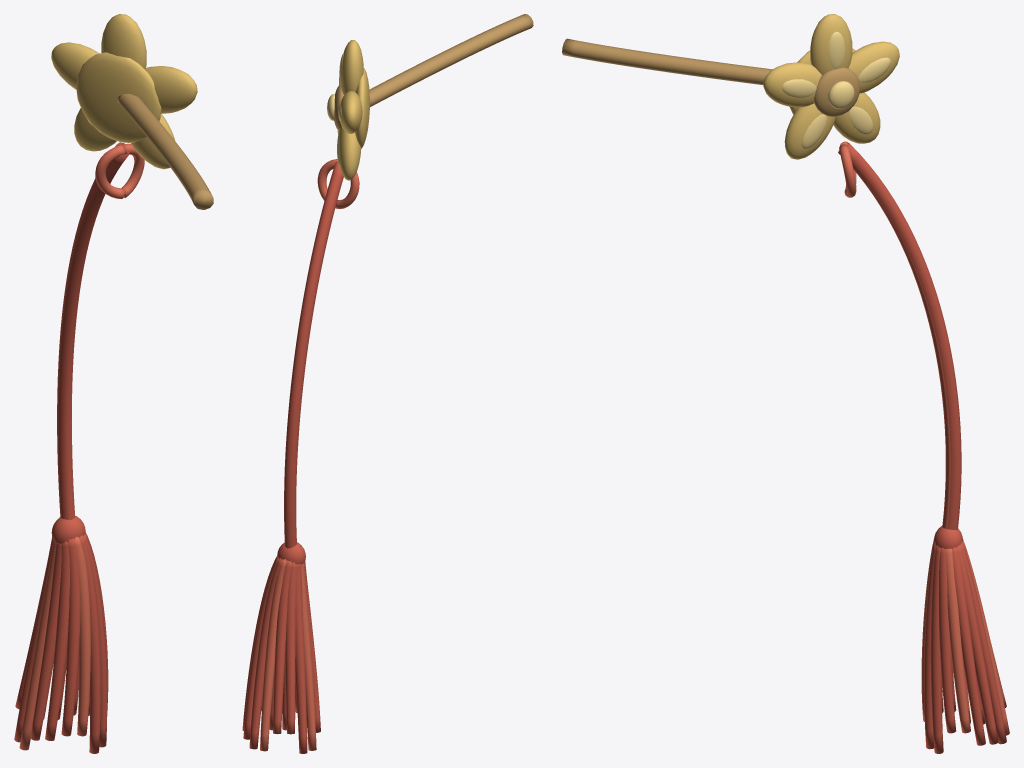
The model's file is side_nishi_flower_tassel_pin.glb.
3 renders of one model, left to right at view 1: azimuth 30°, elevation 25°; view 2: azimuth 150°, elevation 25°; view 3: azimuth 270°, elevation 25°, orthographic. The views are drawn at different scales.
Parts seen in each view (by area): view 1: cinnabar, gold, silk_highlight, gold_recess; view 2: cinnabar, silk_highlight, gold, gold_recess; view 3: cinnabar, gold, gold_recess, silk_highlight, gold_edge.
Boxes of the visible parts, left/top/right/bottom form: cinnabar: left=14, top=142, right=129, bottom=753; gold: left=51, top=14, right=197, bottom=169; silk_highlight: left=19, top=143, right=144, bottom=750; gold_recess: left=117, top=94, right=213, bottom=209; cinnabar: left=242, top=161, right=343, bottom=753; silk_highlight: left=260, top=159, right=359, bottom=751; gold: left=339, top=40, right=369, bottom=180; gold_recess: left=334, top=14, right=533, bottom=130; cinnabar: left=838, top=143, right=1006, bottom=753; gold: left=763, top=14, right=899, bottom=159; gold_recess: left=562, top=38, right=860, bottom=116; silk_highlight: left=839, top=141, right=1009, bottom=735; gold_edge: left=782, top=31, right=890, bottom=148.
Bounding box in the file's own units: 1.96 × 11.89 × 6.68.
